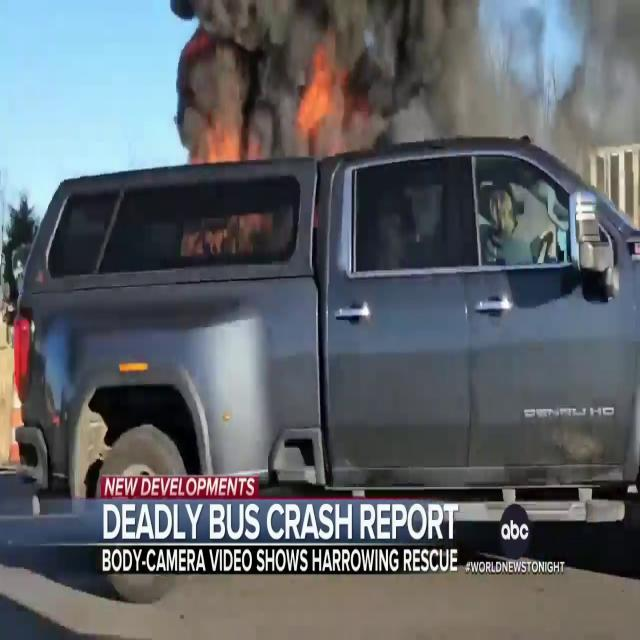Smoke: (164, 0, 636, 144)
